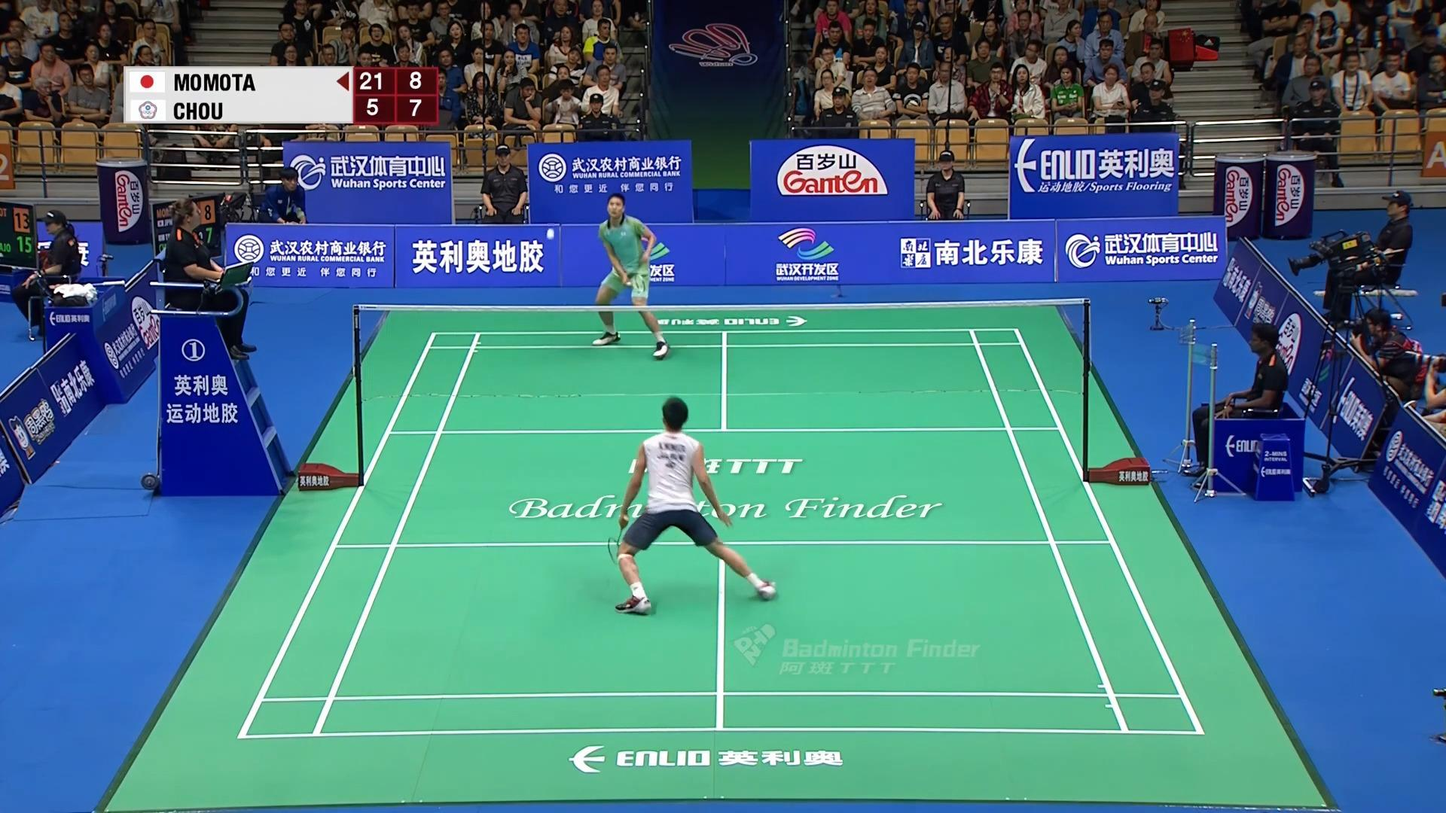player: (615, 397, 776, 615), (593, 191, 673, 360)
